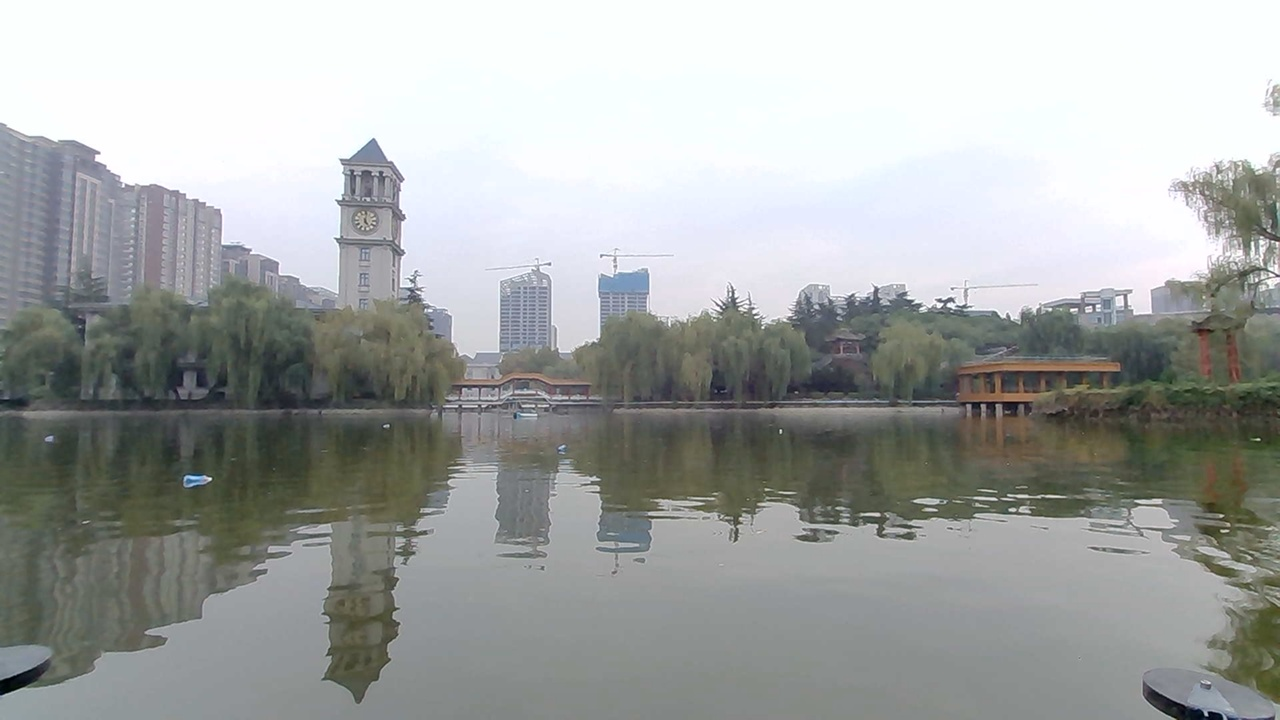bottle: (541, 431, 575, 458), (37, 426, 75, 450), (781, 418, 811, 444), (178, 470, 215, 491), (377, 412, 406, 434)
